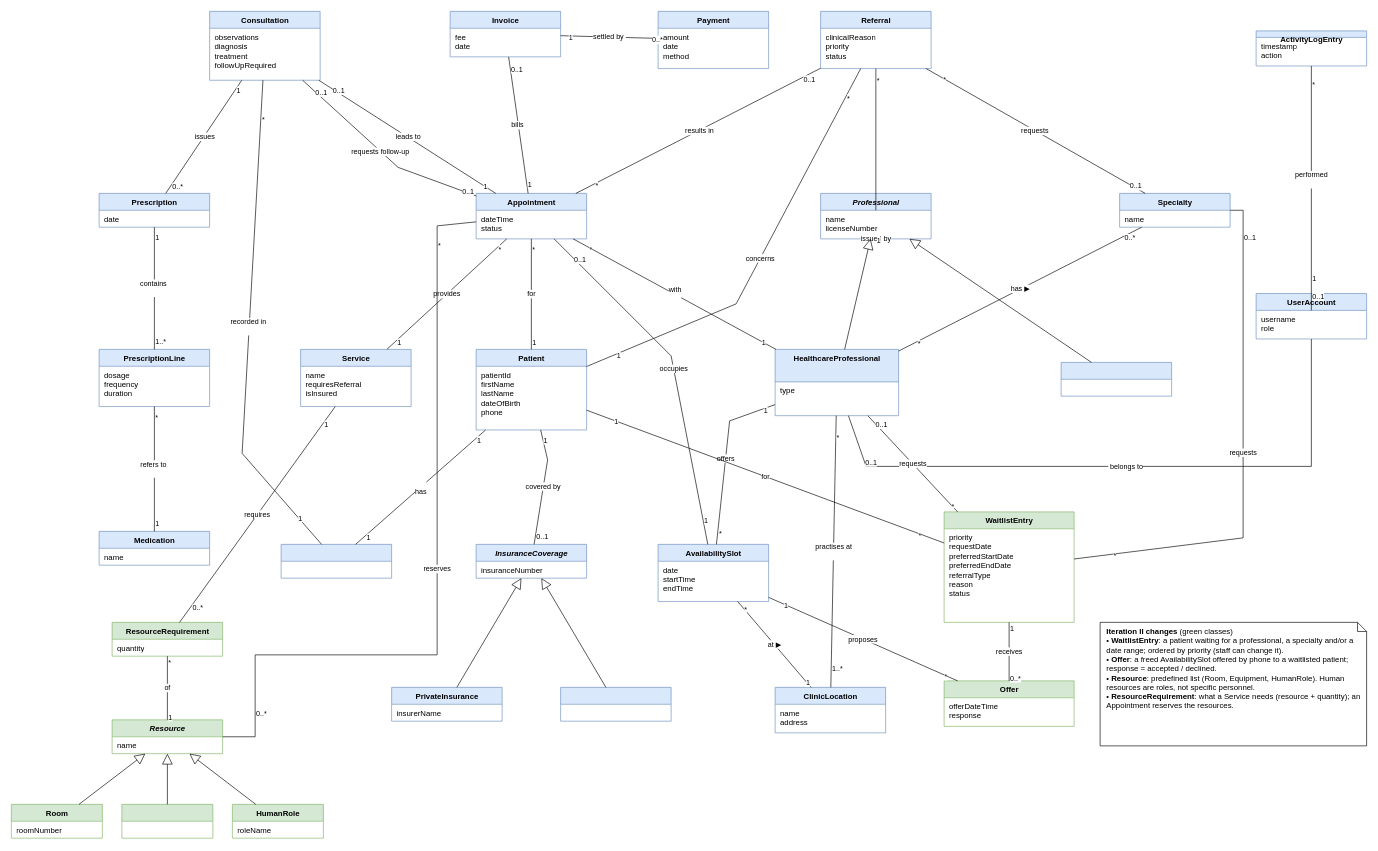
This 1378x851 diagram has some shape labels left out. Each missing label, with the centre of its shape:
"ClinicalRecord" belongs at point 336,561.
"Equipment" belongs at point 167,821.
"ExternalPhysician" belongs at point 1116,379.
"RAMQCoverage" belongs at point 615,704.
